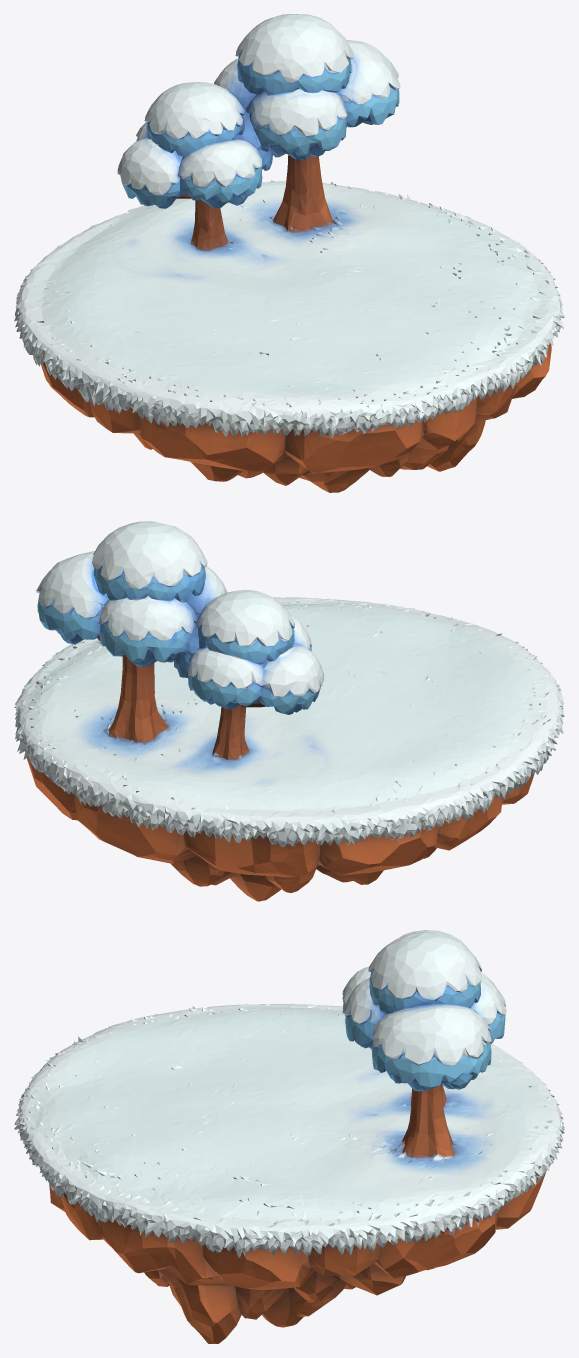
Rendered from TERRAIN_2_winter.glb.
The picture shows the model from 3 angles, top to bottom: view 1: azimuth 30°, elevation 25°; view 2: azimuth 150°, elevation 25°; view 3: azimuth 270°, elevation 25°; orthographic projection.
Visible parts, largest first — view 1: tripo_node_5b30a673-f8d9-41ee-96ce-ce44cfe34ff4; view 2: tripo_node_5b30a673-f8d9-41ee-96ce-ce44cfe34ff4; view 3: tripo_node_5b30a673-f8d9-41ee-96ce-ce44cfe34ff4.
Part boxes in pixels (box(x1,y1,x2,y2)): tripo_node_5b30a673-f8d9-41ee-96ce-ce44cfe34ff4: box(14, 14, 564, 492); tripo_node_5b30a673-f8d9-41ee-96ce-ce44cfe34ff4: box(14, 521, 564, 901); tripo_node_5b30a673-f8d9-41ee-96ce-ce44cfe34ff4: box(14, 930, 564, 1343).
Size of the model in its own units: 9 by 7 by 9.
Materials: 1 (1 with a texture image).
